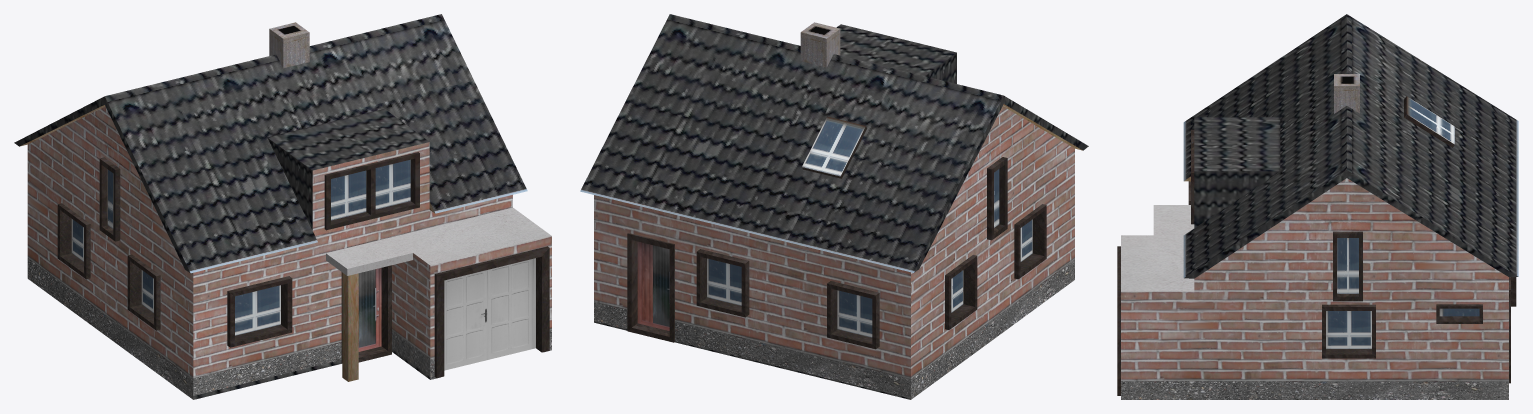
The model's file is family_house_03.glb.
The picture shows the model from 3 angles, left to right: view 1: azimuth 30°, elevation 25°; view 2: azimuth 150°, elevation 25°; view 3: azimuth 270°, elevation 25°; orthographic projection. The views are drawn at different scales.
Visible parts, largest first — view 1: house4_baked_Cube.055; view 2: house4_baked_Cube.055; view 3: house4_baked_Cube.055.
Boxes of the visible parts, x1,y1,x2,y2 form: house4_baked_Cube.055: [14, 14, 551, 399]; house4_baked_Cube.055: [580, 14, 1088, 399]; house4_baked_Cube.055: [1117, 14, 1518, 399].
Bounding box in the file's own units: 2.35 × 1.78 × 2.55.
1 material, 1 textured.
